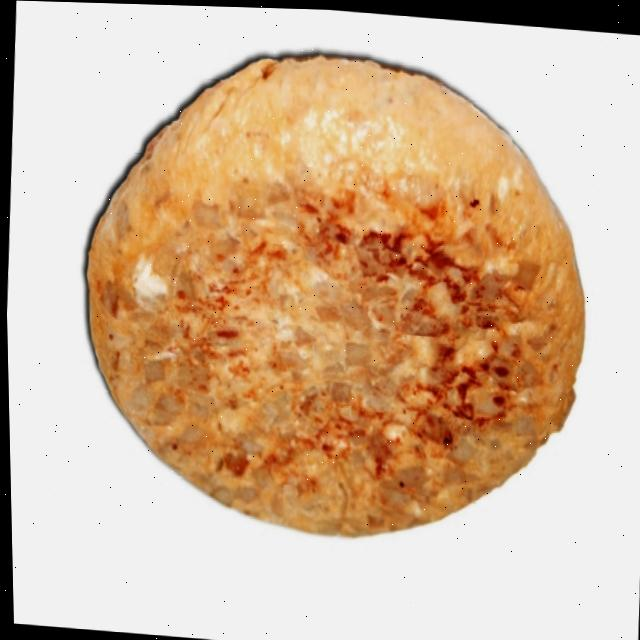面包点心: (46, 36, 617, 582)
